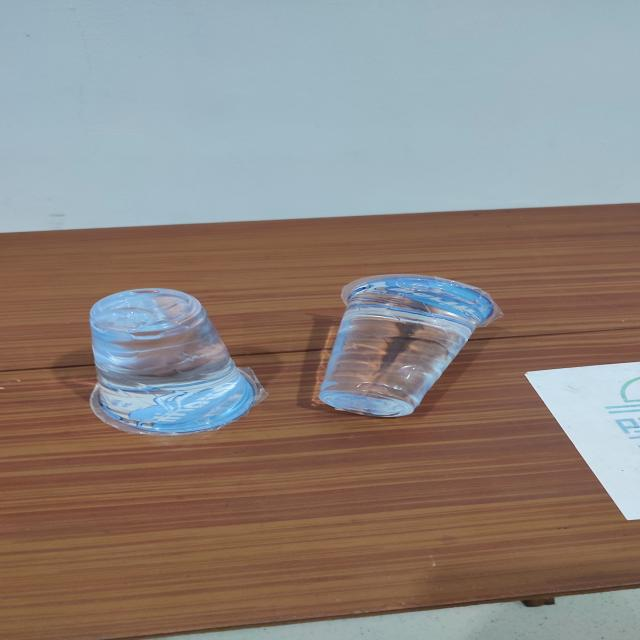air gelas: (64, 272, 278, 440), (314, 269, 504, 421)
